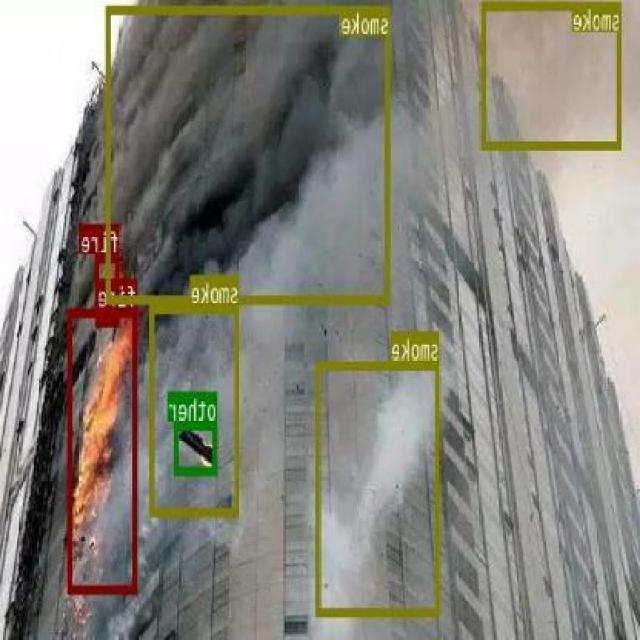Fire: (68, 308, 138, 590)
Smoke: (107, 4, 390, 302), (318, 360, 440, 614), (482, 0, 622, 148), (150, 304, 242, 514)
